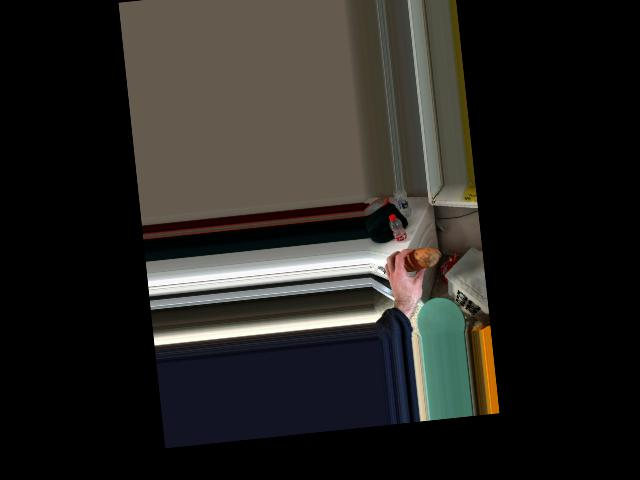sweet_potato: (393, 251, 432, 284)
